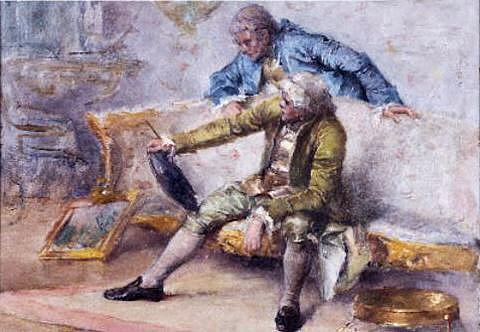person: (109, 73, 344, 332), (206, 9, 419, 123)
